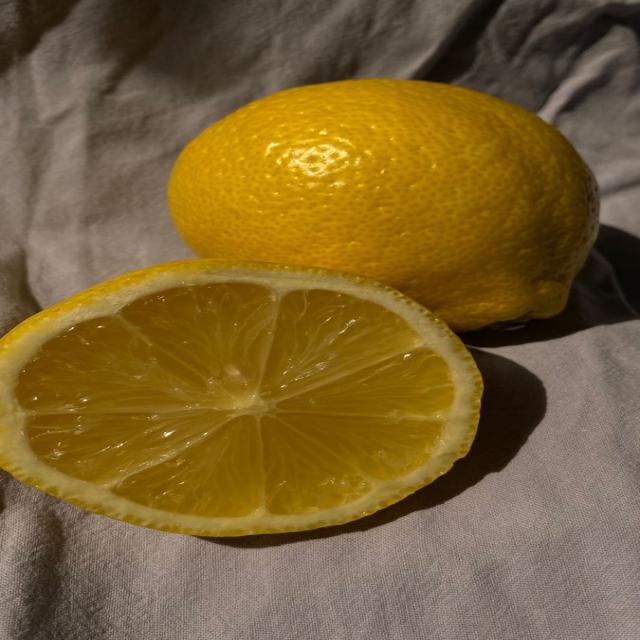lemon: (0, 260, 481, 535), (169, 79, 597, 330)
